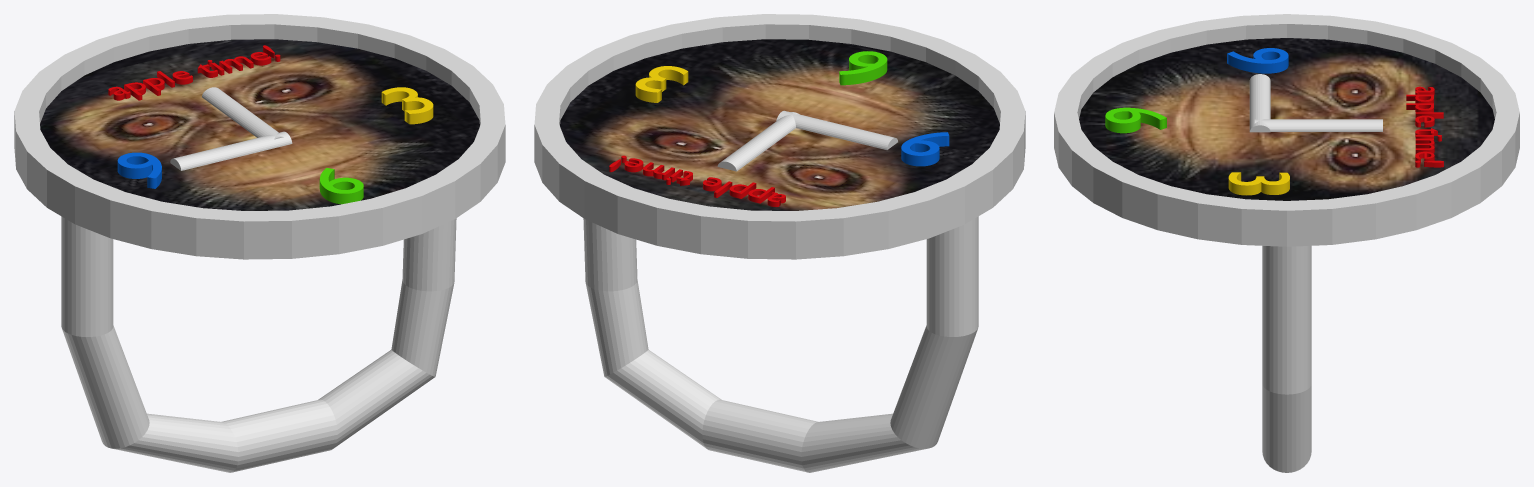
File: watch.fbx
The picture shows the model from 3 angles, left to right: view 1: azimuth 30°, elevation 25°; view 2: azimuth 150°, elevation 25°; view 3: azimuth 270°, elevation 25°; orthographic projection. The views are drawn at different scales.
Visible parts, largest first — view 1: Cylinder, Cylinder.001, Text.003, Cylinder.003, Cylinder.002, Text.001, Text.002, Text; view 2: Cylinder, Cylinder.001, Text.003, Cylinder.003, Cylinder.002, Text.002, Text, Text.001; view 3: Cylinder, Cylinder.001, Text.003, Cylinder.002, Text, Text.002, Cylinder.003, Text.001.
Boxes of the visible parts, <box> form: Cylinder: <box>14,14,505,259</box>; Cylinder.001: <box>61,216,456,472</box>; Text.003: <box>108,45,280,100</box>; Cylinder.003: <box>170,131,292,170</box>; Cylinder.002: <box>202,87,283,139</box>; Text.001: <box>381,87,433,124</box>; Text.002: <box>117,152,161,188</box>; Text: <box>319,168,363,204</box>; Cylinder: <box>534,14,1025,259</box>; Cylinder.001: <box>583,216,978,472</box>; Text.003: <box>609,155,785,206</box>; Cylinder.003: <box>776,110,897,149</box>; Cylinder.002: <box>717,112,799,171</box>; Text.002: <box>901,132,949,166</box>; Text: <box>839,51,887,85</box>; Text.001: <box>635,66,688,102</box>; Cylinder: <box>1054,14,1519,246</box>; Cylinder.001: <box>1262,246,1311,472</box>; Text.003: <box>1406,86,1443,167</box>; Cylinder.002: <box>1254,119,1382,131</box>; Text: <box>1105,107,1166,133</box>; Text.002: <box>1227,48,1288,73</box>; Cylinder.003: <box>1249,74,1270,132</box>; Text.001: <box>1228,172,1289,195</box>.
Bounding box in the file's own units: 200 × 156 × 200.
